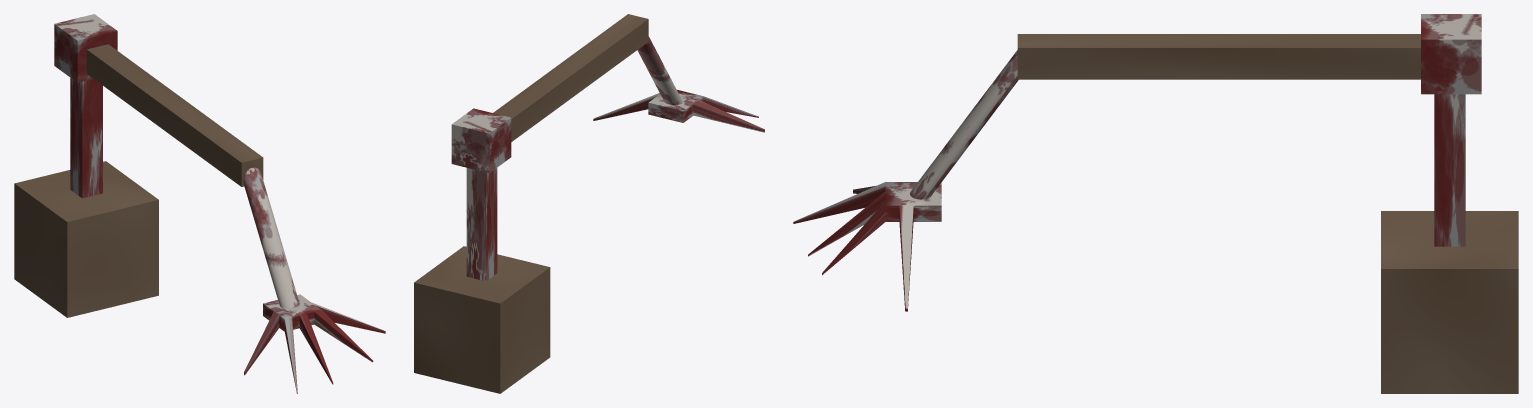
File: claw.obj
3 renders of one model, left to right at view 1: azimuth 30°, elevation 25°; view 2: azimuth 150°, elevation 25°; view 3: azimuth 270°, elevation 25°, orthographic. The views are drawn at different scales.
Parts seen in each view (by area): view 1: pCube6; view 2: pCube6; view 3: pCube6.
Boxes of the visible parts, box(x1,y1,x2,y2) form: pCube6: box(14, 14, 385, 393); pCube6: box(414, 14, 764, 393); pCube6: box(793, 14, 1518, 393).
Size of the model in its own units: 2.56 by 3.94 by 7.66.
